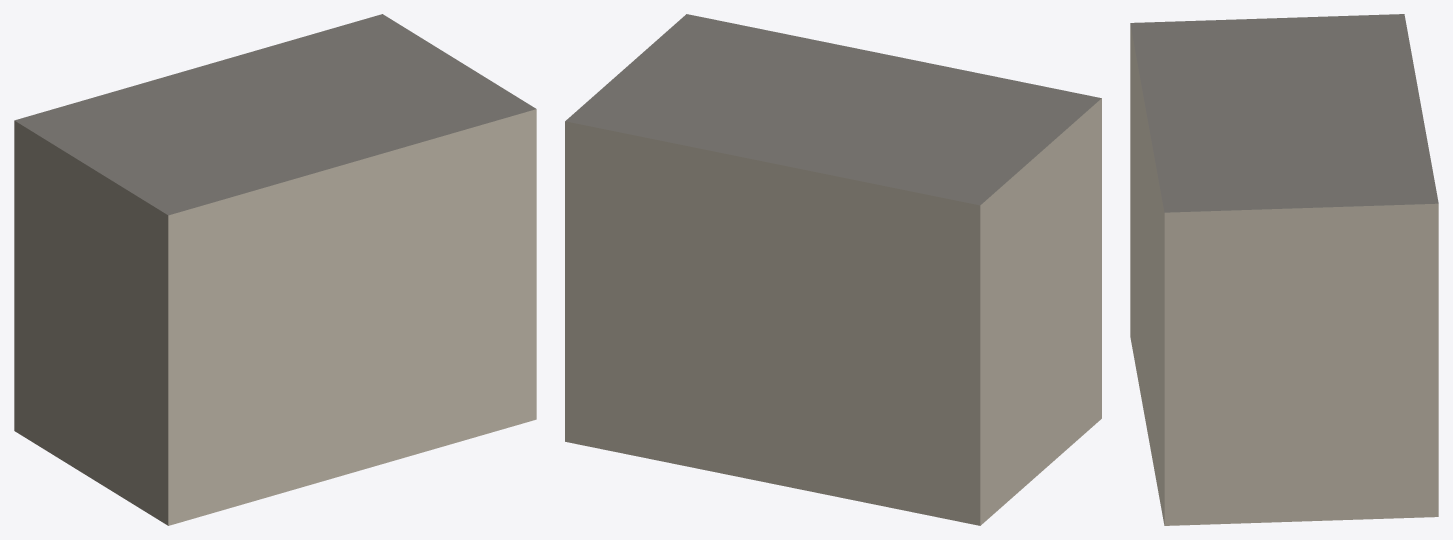
3 renders of one model, left to right at view 1: azimuth 30°, elevation 25°; view 2: azimuth 150°, elevation 25°; view 3: azimuth 270°, elevation 25°, orthographic. The views are drawn at different scales.
Parts seen in each view (by area): view 1: HP-w858824315; view 2: HP-w858824315; view 3: HP-w858824315.
Boxes of the visible parts, bbox=[...] form: HP-w858824315: bbox=[14, 14, 536, 525]; HP-w858824315: bbox=[565, 14, 1101, 525]; HP-w858824315: bbox=[1130, 14, 1438, 525].
Size of the model in its own units: 24.48 by 18 by 16.07.
